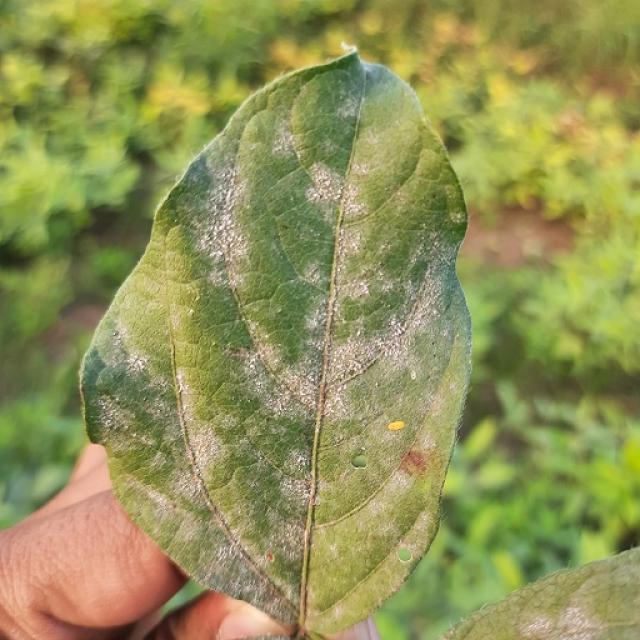Blackgram: (81, 51, 470, 630)
Powdery_Mildew: (218, 132, 433, 434), (270, 276, 402, 413), (192, 348, 305, 494), (299, 159, 384, 254), (374, 271, 451, 372), (298, 153, 376, 237), (93, 360, 157, 444), (212, 168, 259, 281), (516, 595, 628, 640), (251, 356, 313, 427), (207, 554, 277, 613), (186, 418, 232, 489), (322, 328, 377, 386), (210, 533, 257, 577), (140, 485, 181, 522), (308, 167, 343, 205), (558, 604, 593, 629), (343, 276, 371, 302), (376, 334, 403, 360), (125, 349, 150, 377), (520, 618, 554, 638), (280, 475, 303, 503), (273, 131, 295, 156), (359, 129, 382, 149), (298, 386, 316, 406), (174, 373, 189, 396), (305, 314, 320, 331), (253, 377, 267, 393), (332, 605, 344, 621), (102, 413, 114, 428), (451, 211, 464, 223), (303, 485, 313, 500), (211, 248, 224, 259), (248, 358, 258, 371), (394, 324, 404, 336), (296, 454, 305, 466), (329, 543, 338, 554), (312, 494, 320, 505), (336, 434, 344, 443), (337, 372, 345, 381), (410, 371, 417, 380), (194, 294, 201, 303), (112, 330, 119, 337), (188, 308, 195, 315), (124, 423, 130, 431), (132, 432, 138, 439), (258, 455, 264, 462), (356, 329, 361, 337), (211, 343, 217, 349), (375, 381, 379, 387)
